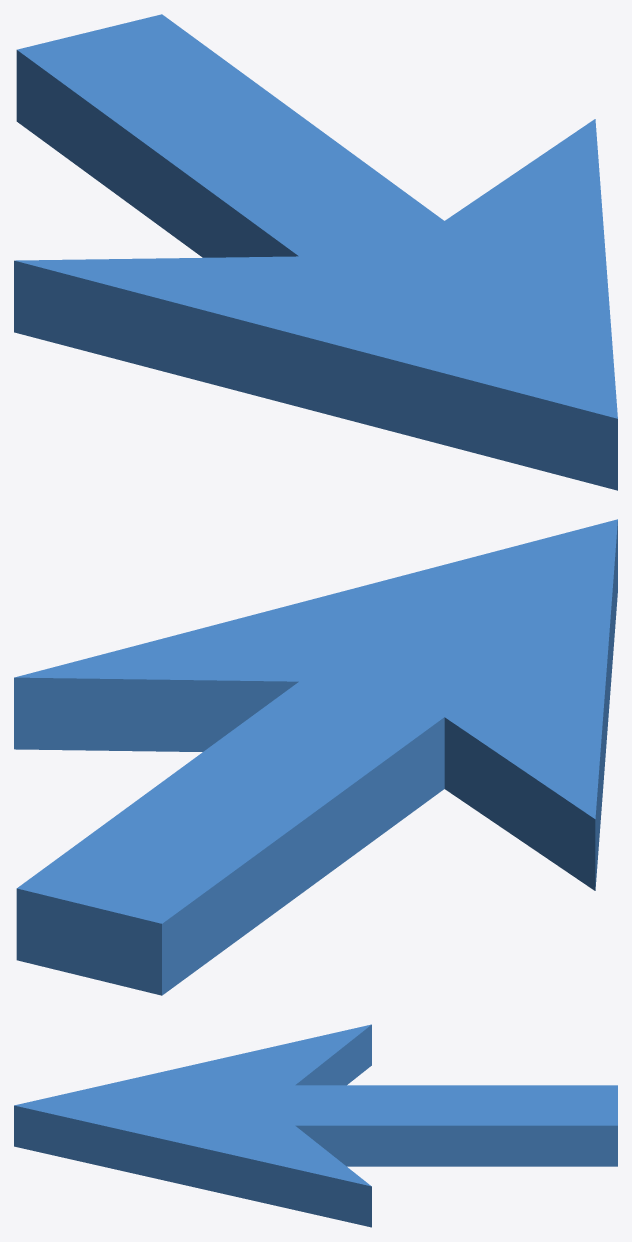
The model's file is arrow.glb.
The picture shows the model from 3 angles, top to bottom: view 1: azimuth 30°, elevation 25°; view 2: azimuth 150°, elevation 25°; view 3: azimuth 270°, elevation 25°; orthographic projection. The views are drawn at different scales.
Parts seen in each view (by area): view 1: Curve.001; view 2: Curve.001; view 3: Curve.001.
Boxes of the visible parts, x1,y1,x2,y2 form: Curve.001: [14, 14, 617, 490]; Curve.001: [14, 519, 617, 995]; Curve.001: [14, 1024, 617, 1227].
Bounding box in the file's own units: 0.0169 × 0.002 × 0.0267.
